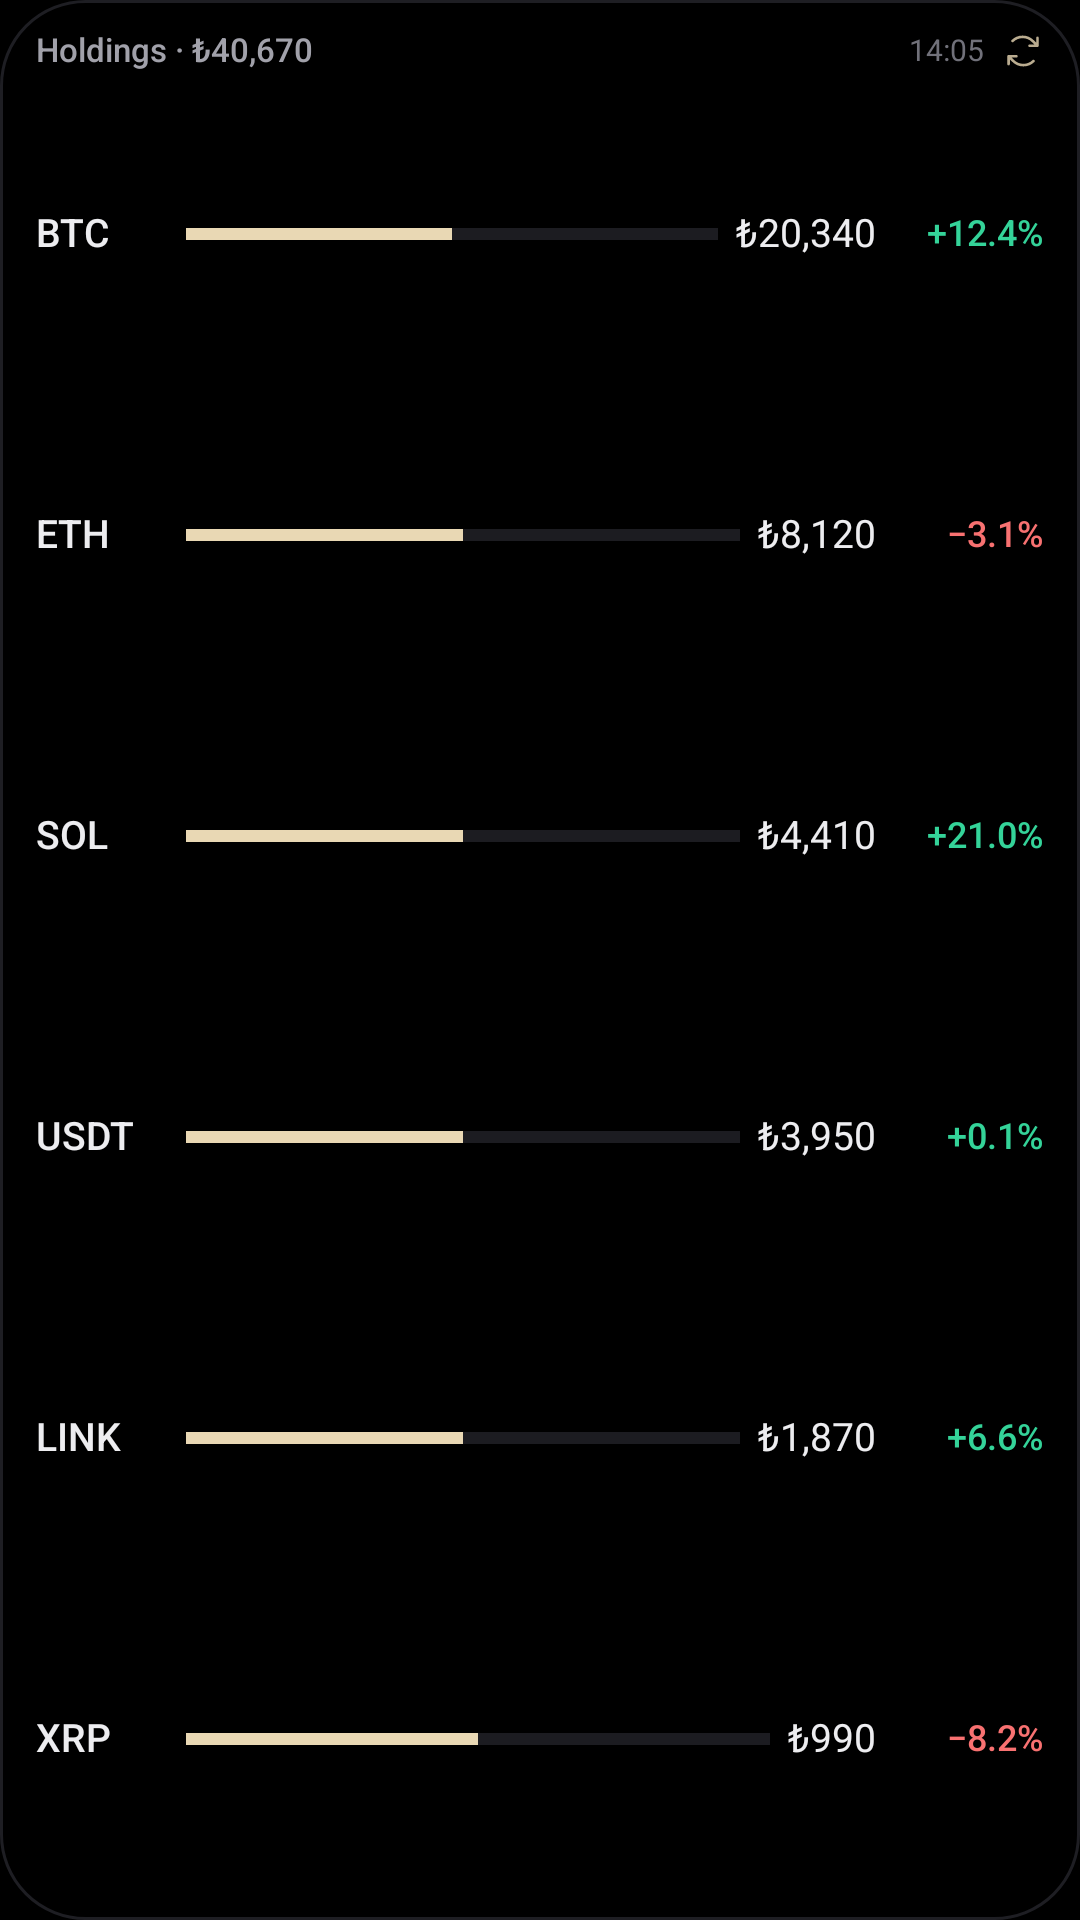

Locate icon controls on the screen. Image size 1080 x 1920, boxes as detection(x1, y1, x2, y2).
widget refresh: detection(1007, 35, 1039, 67)
